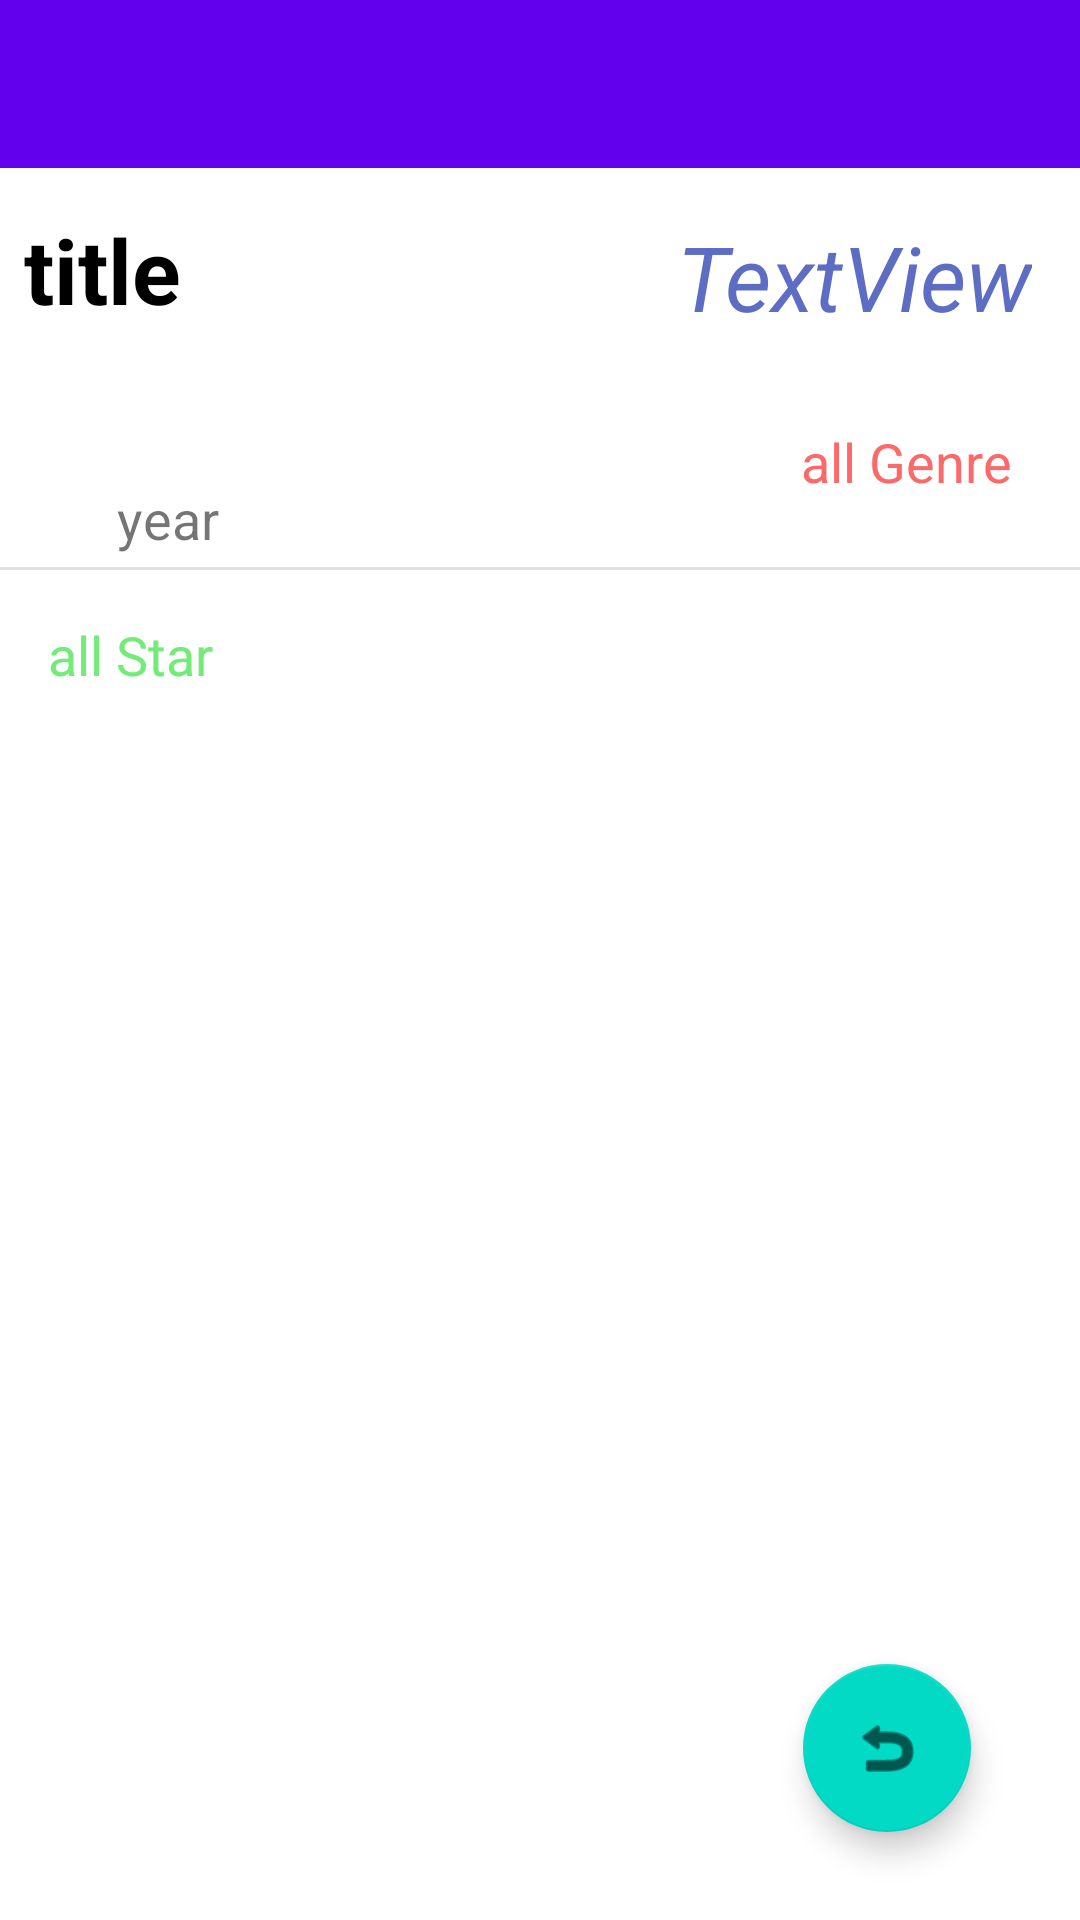

Named icons in this screenshot (1080px×1920px) and their centers, (x,y):
revert: (887,1748)
